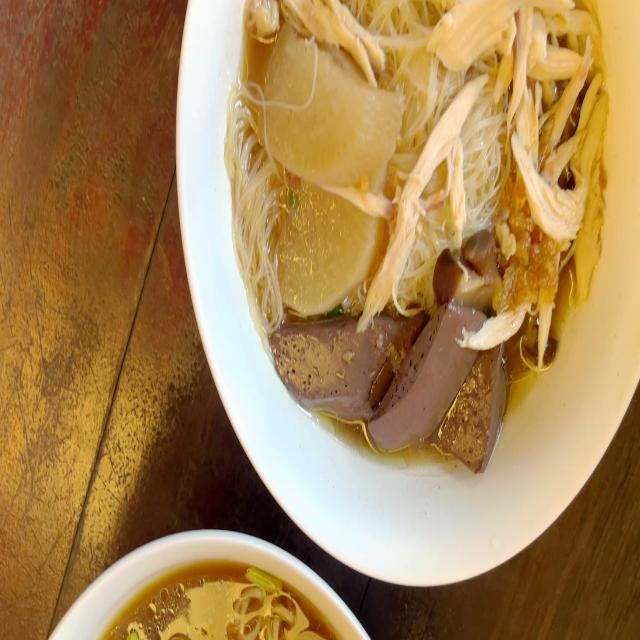boiled_chicken_blood_jelly: (266, 314, 514, 466)
chicken_shredded: (514, 0, 606, 298), (264, 0, 383, 35)
daikon_radish: (264, 40, 378, 294)
noodle: (206, 0, 636, 479)
